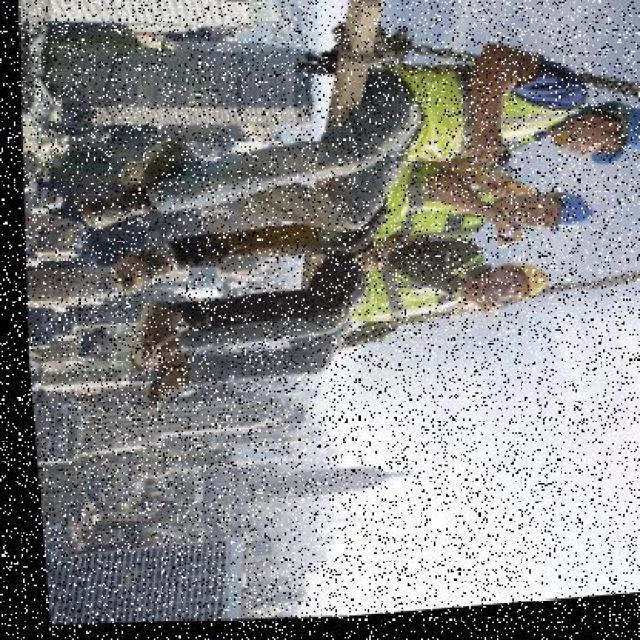helmet: (593, 106, 639, 178), (540, 196, 588, 245), (508, 269, 546, 309)
vest: (403, 106, 551, 178), (338, 259, 474, 332)
